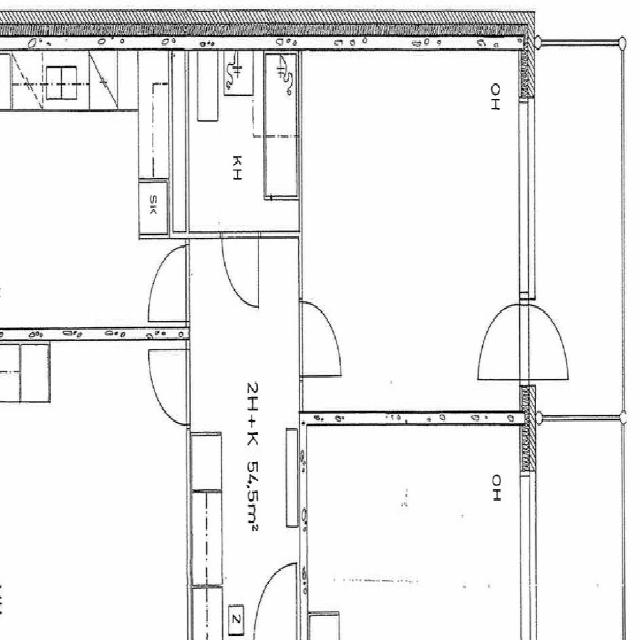door: (519, 304, 569, 379), (480, 304, 529, 379), (254, 562, 297, 640), (146, 349, 190, 425), (146, 245, 190, 321), (299, 301, 342, 376), (222, 231, 258, 306)
